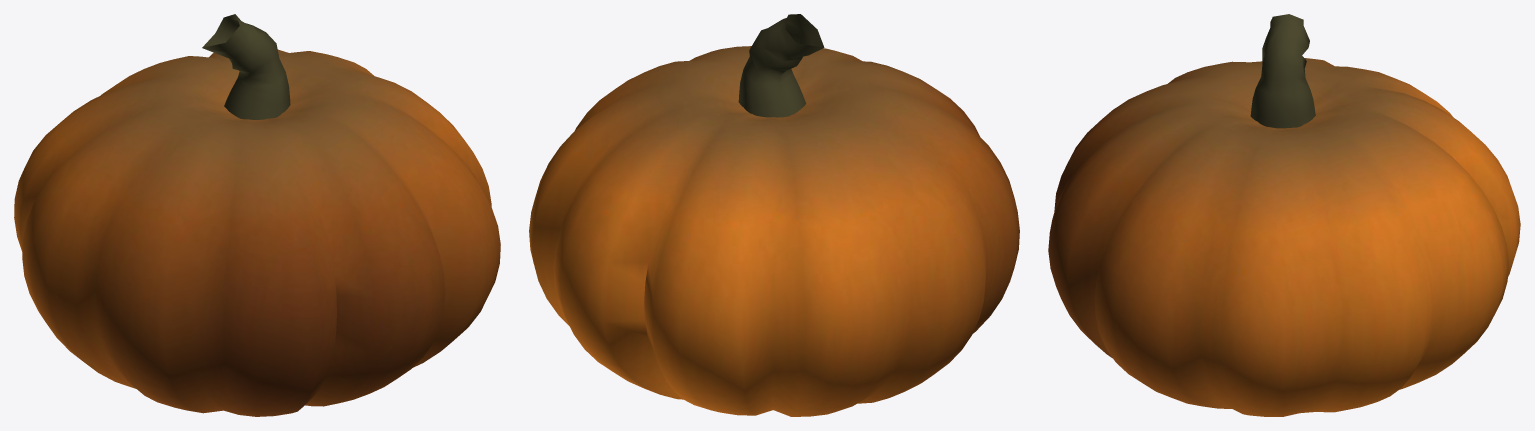
File: pumpkin_a.glb
3 views of the same model, side by side, from view 1: azimuth 30°, elevation 25°; view 2: azimuth 150°, elevation 25°; view 3: azimuth 270°, elevation 25° (orthographic). The views are drawn at different scales.
Visible parts, largest first — view 1: pumpkin_a, pumpkin_a_stem; view 2: pumpkin_a, pumpkin_a_stem; view 3: pumpkin_a, pumpkin_a_stem.
Boxes of the visible parts, <box> form: pumpkin_a: <box>14,49,500,416</box>; pumpkin_a_stem: <box>202,14,290,119</box>; pumpkin_a: <box>529,46,1019,416</box>; pumpkin_a_stem: <box>738,14,824,117</box>; pumpkin_a: <box>1048,58,1520,416</box>; pumpkin_a_stem: <box>1250,14,1315,128</box>.
Bounding box in the file's own units: 0.9944 × 0.8187 × 0.9925.
Materials: 2 (1 with a texture image).
